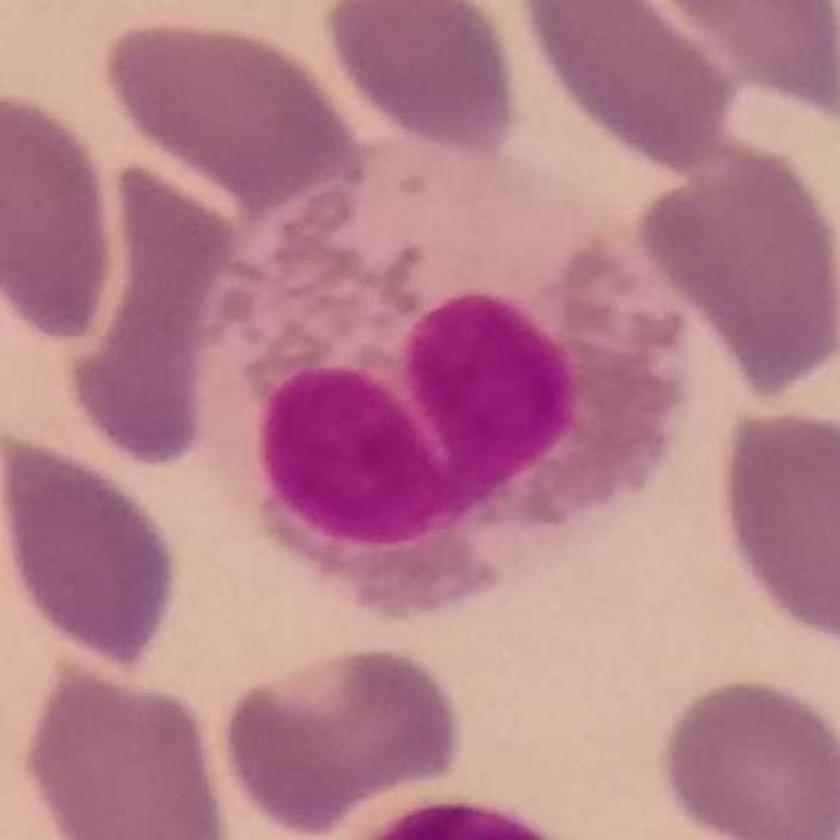eosinophil: (195, 134, 702, 623)
